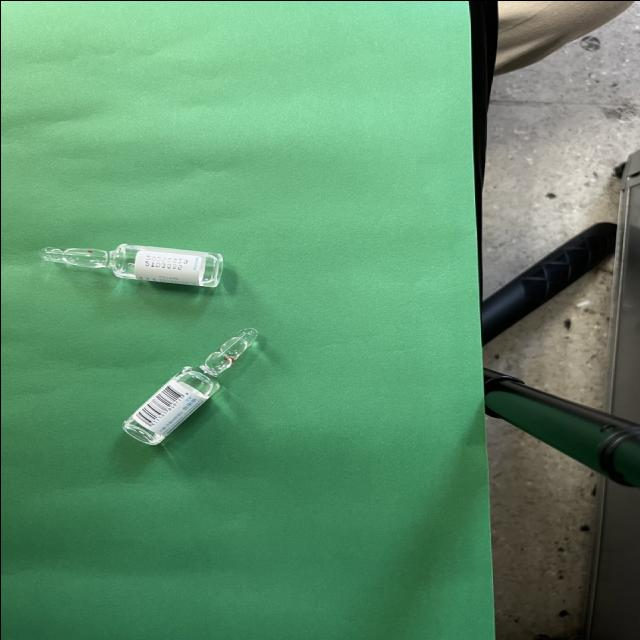Ampoules: (121, 327, 257, 445), (37, 243, 223, 287)
